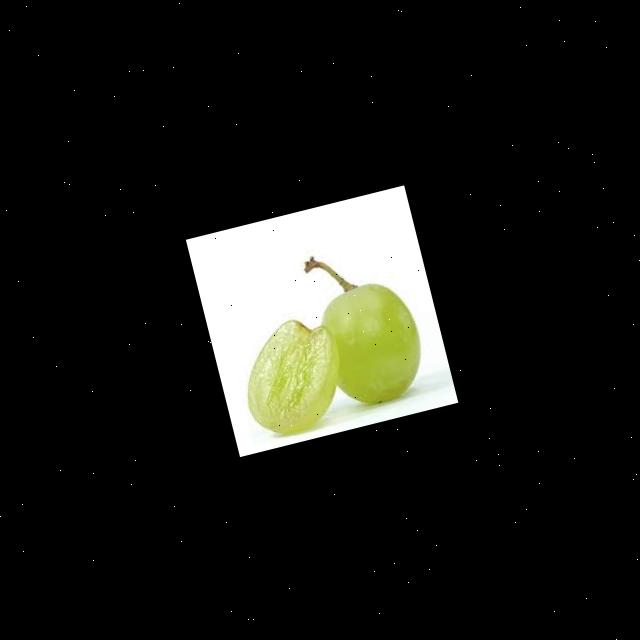grape: (228, 308, 352, 440)
